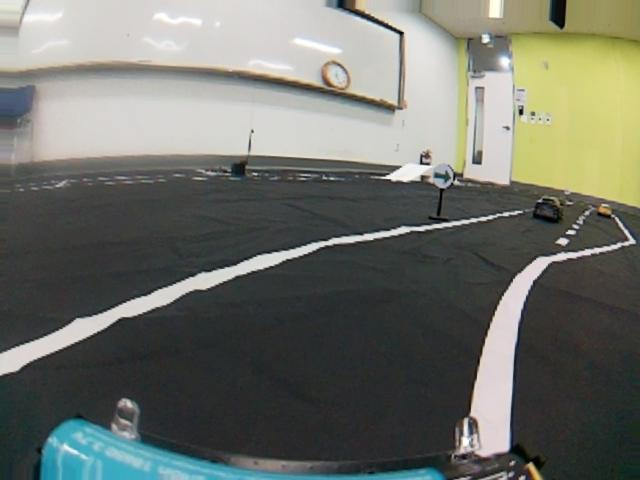car: (528, 189, 569, 226), (595, 198, 620, 222)
sign_right: (429, 159, 458, 193)
straight: (0, 244, 619, 480)
